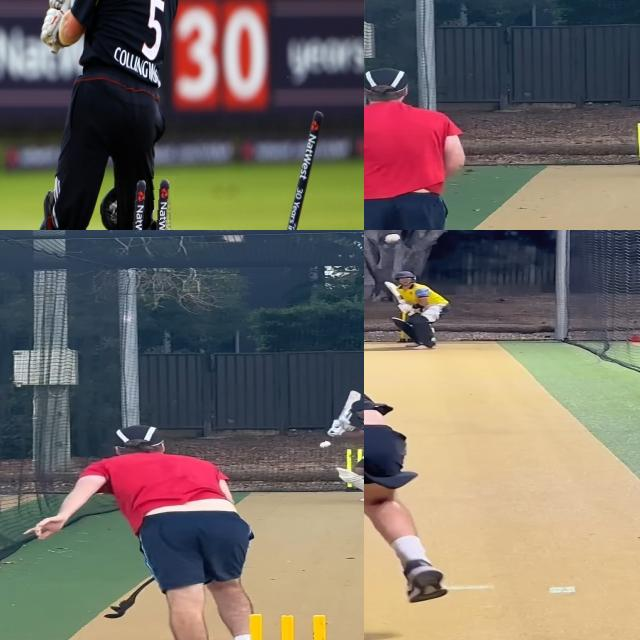Cricket ball: (317, 440, 334, 450), (384, 234, 401, 244)
Stumps: (117, 175, 175, 230), (236, 611, 343, 640)
